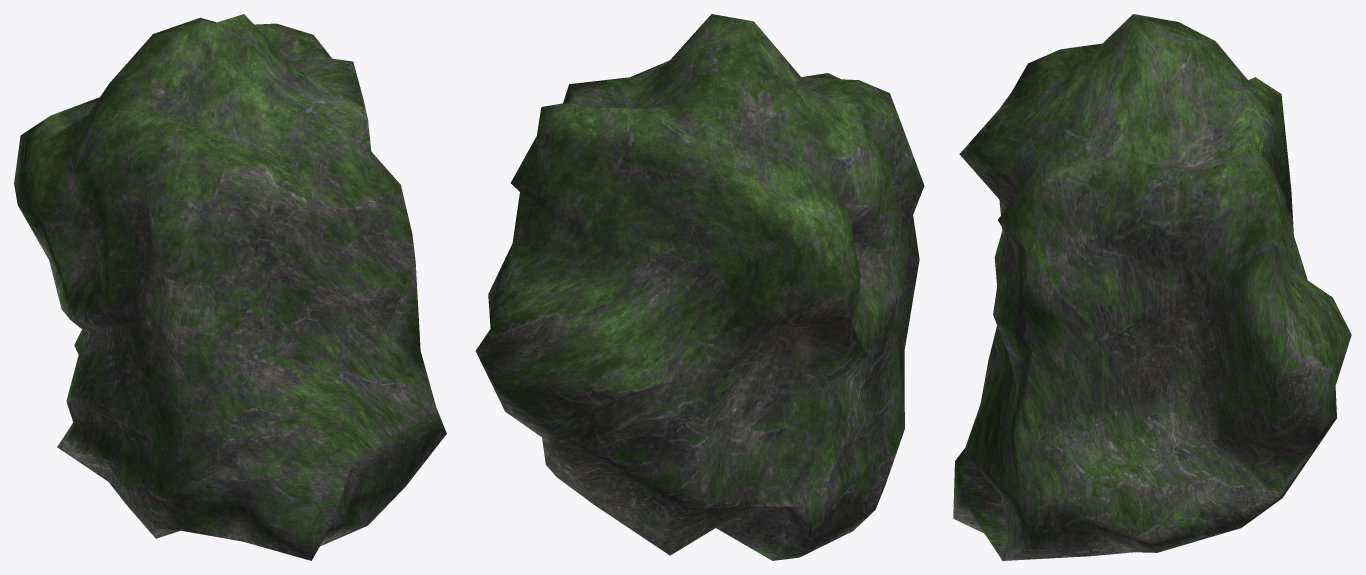
The model's file is mdl_Krank_Low_Poly_Rock_1.gltf.
3 views of the same model, side by side, from view 1: azimuth 30°, elevation 25°; view 2: azimuth 150°, elevation 25°; view 3: azimuth 270°, elevation 25° (orthographic). The views are drawn at different scales.
Parts seen in each view (by area): view 1: Rock_low; view 2: Rock_low; view 3: Rock_low.
Part boxes in pixels (box(x1,y1,x2,y2)): Rock_low: box(14, 14, 446, 560); Rock_low: box(475, 14, 924, 560); Rock_low: box(953, 14, 1351, 560).
Size of the model in its own units: 1.39 by 2 by 1.4.
Materials: 1 (1 with a texture image).
